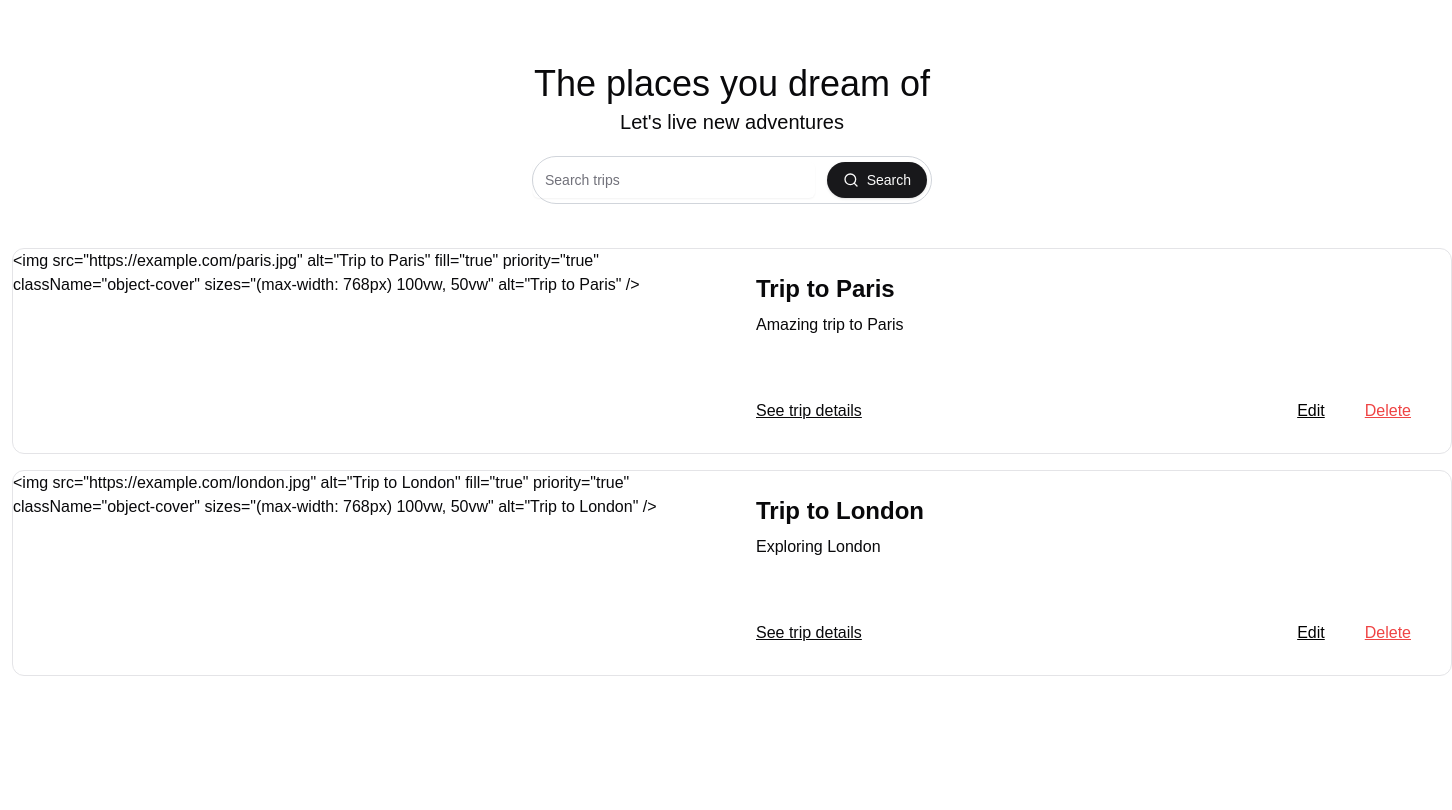
Test: Search Functionality › filters trips based on search query
Expected: the heading "Trip to Paris" is shown, [756,275,895,302]
Expected: the heading "Trip to London" is shown, [756,497,924,524]
# Search for "Paris"
Step 1. Type "Paris" into the search field with placeholder "Search trips" → (674, 180), box [533,162,815,198]
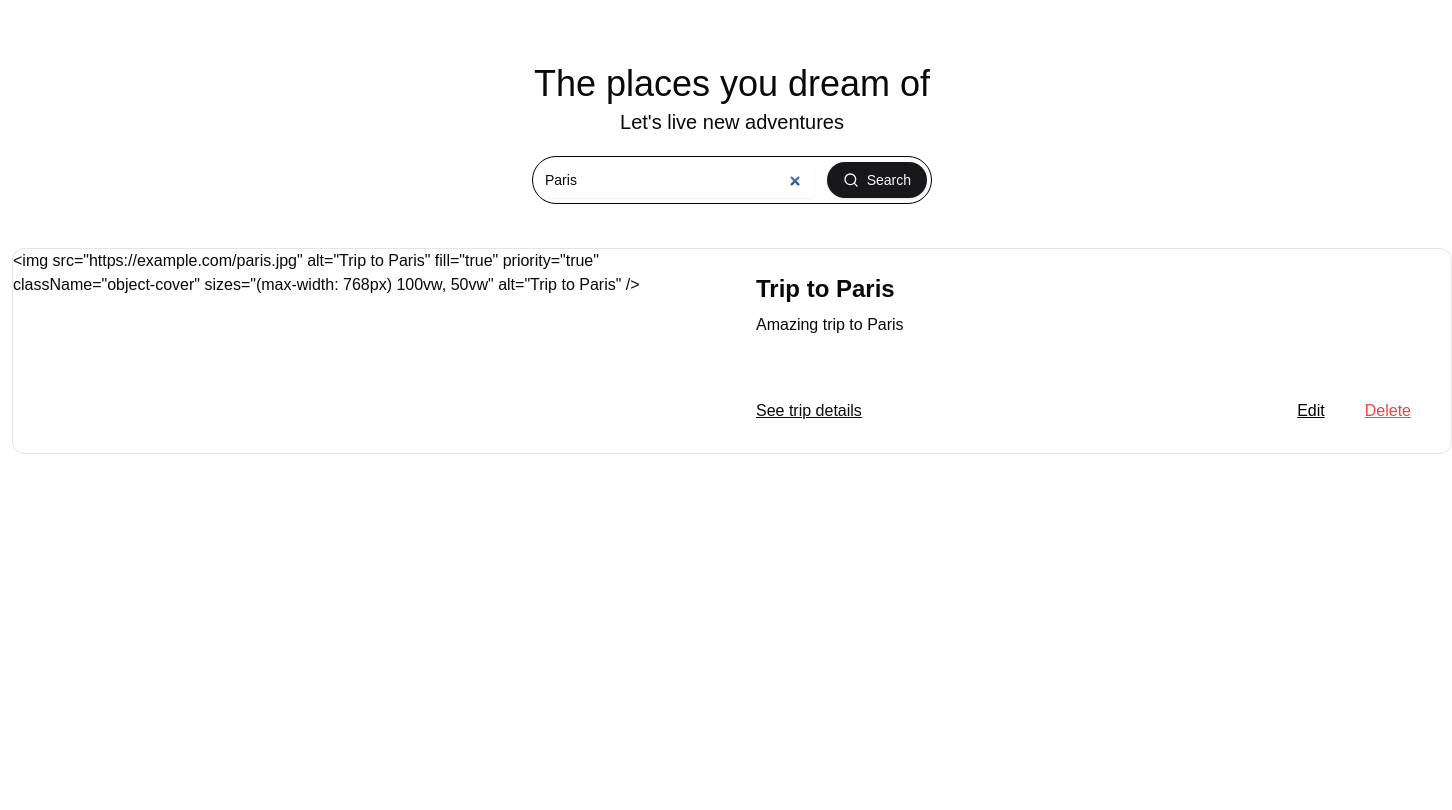
Expected: the heading "Trip to Paris" is shown, [756,275,895,302]
Result: the text "Trip to London" is gone
